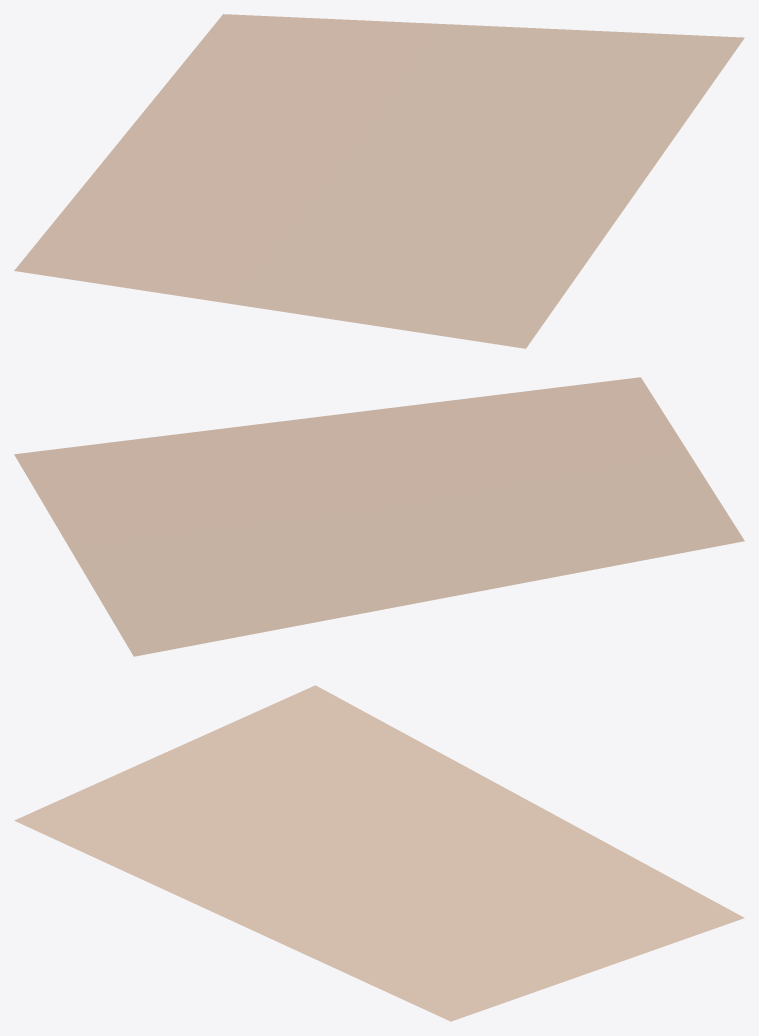
The model's file is paper.fbx.
The picture shows the model from 3 angles, top to bottom: view 1: azimuth 30°, elevation 25°; view 2: azimuth 150°, elevation 25°; view 3: azimuth 270°, elevation 25°; orthographic projection. The views are drawn at different scales.
Parts seen in each view (by area): view 1: paper; view 2: paper; view 3: paper.
Boxes of the visible parts, x1,y1,x2,y2 form: paper: [14, 14, 744, 348]; paper: [14, 377, 744, 656]; paper: [14, 685, 744, 1021].
Bounding box in the file's own units: 44.71 × 3.17 × 44.04.
